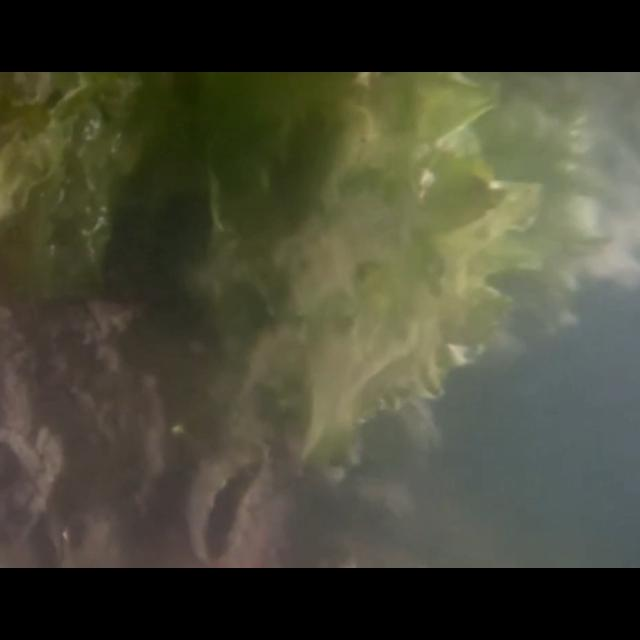Oyster-Open: (183, 438, 271, 564)
